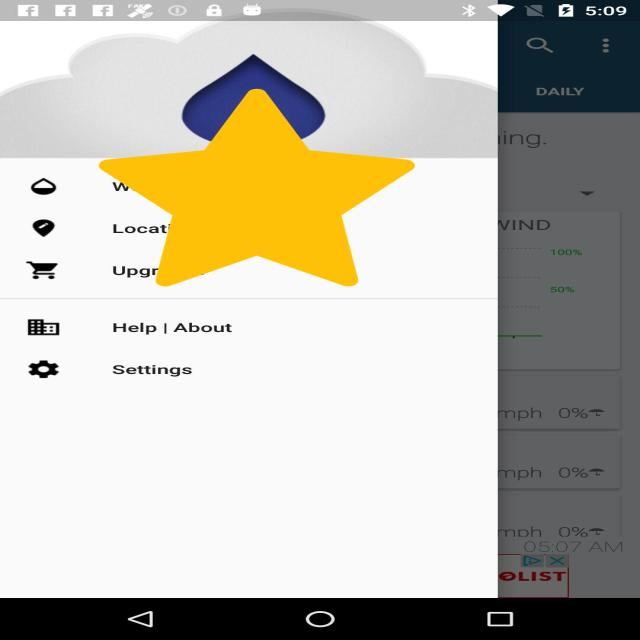forced continuity: (99, 88, 415, 286)
